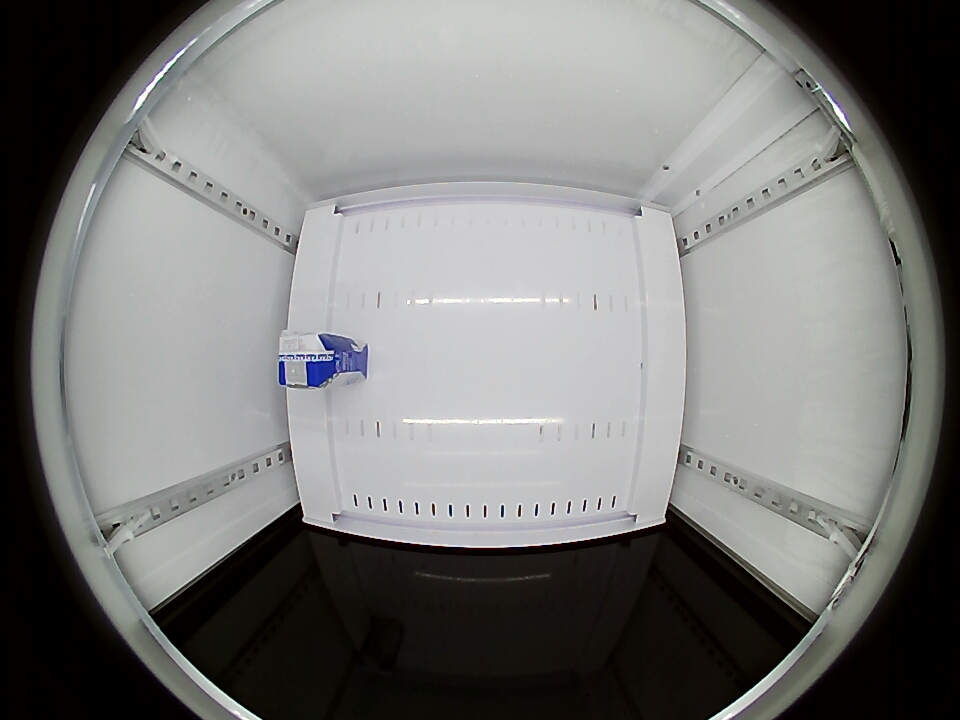anmuxi: (277, 332, 337, 389)
